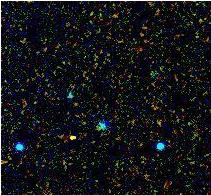star: (55, 121, 85, 151)
